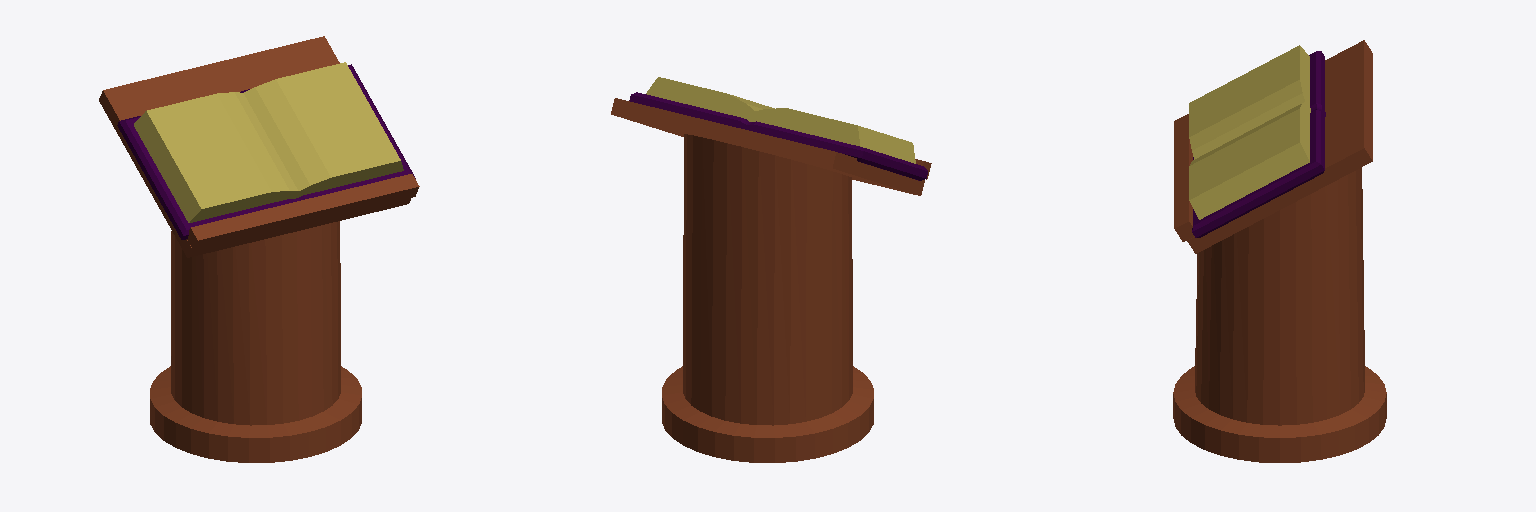
The model's file is JournalLecturn.obj.
The picture shows the model from 3 angles: view 1: azimuth 30°, elevation 25°; view 2: azimuth 150°, elevation 25°; view 3: azimuth 270°, elevation 25°; orthographic projection.
Visible parts, largest first — view 1: LecturnBottom_Cylinder, BookInside_Cube.006, JournalCover_Cube.004; view 2: LecturnBottom_Cylinder, BookInside_Cube.006, JournalCover_Cube.004; view 3: LecturnBottom_Cylinder, BookInside_Cube.006, JournalCover_Cube.004.
Boxes of the visible parts, x1=… form: LecturnBottom_Cylinder: x1=99, y1=36, x2=419, y2=462; BookInside_Cube.006: x1=134, y1=62, x2=403, y2=222; JournalCover_Cube.004: x1=117, y1=64, x2=415, y2=239; LecturnBottom_Cylinder: x1=611, y1=98, x2=931, y2=462; BookInside_Cube.006: x1=646, y1=77, x2=915, y2=163; JournalCover_Cube.004: x1=629, y1=92, x2=927, y2=180; LecturnBottom_Cylinder: x1=1173, y1=40, x2=1386, y2=462; BookInside_Cube.006: x1=1189, y1=45, x2=1310, y2=219; JournalCover_Cube.004: x1=1192, y1=51, x2=1325, y2=237.
Bounding box in the file's own units: 1.26 × 1.68 × 1.